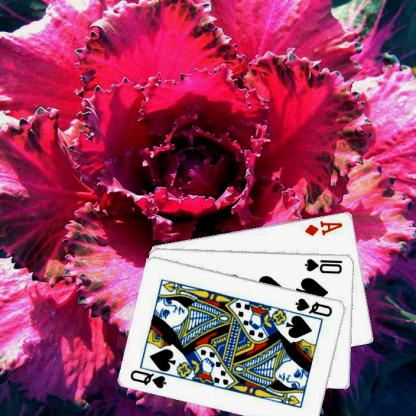10S: (302, 256, 344, 274)
AD: (302, 218, 344, 236)
QS: (292, 295, 334, 318), (128, 367, 168, 389)
